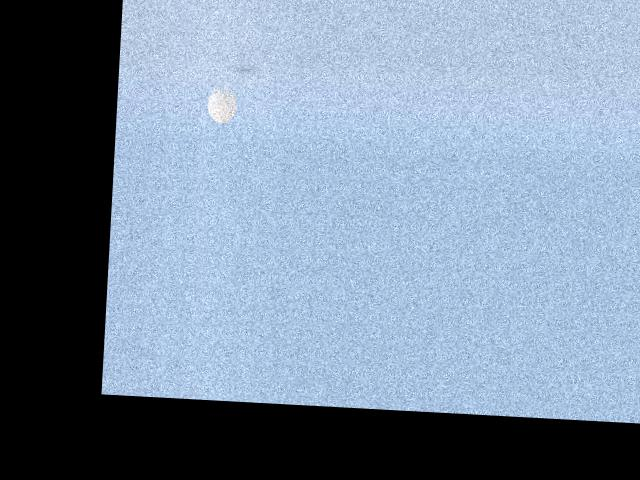egg: (206, 85, 237, 123)
